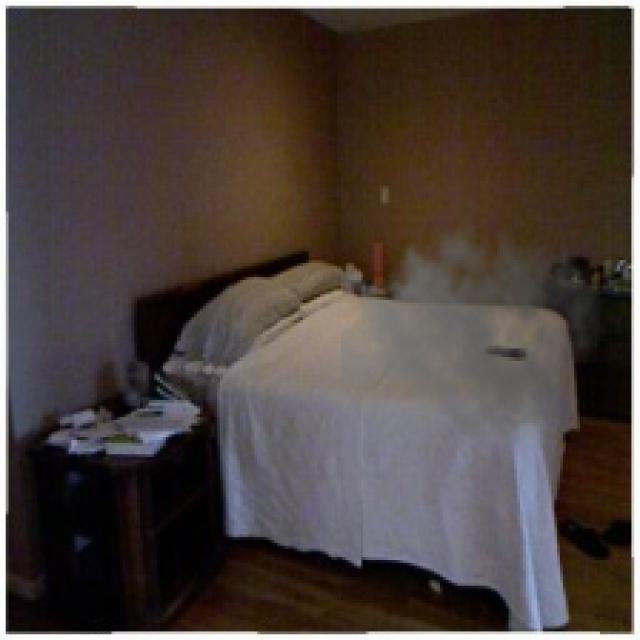Smoke: (340, 203, 606, 448)
